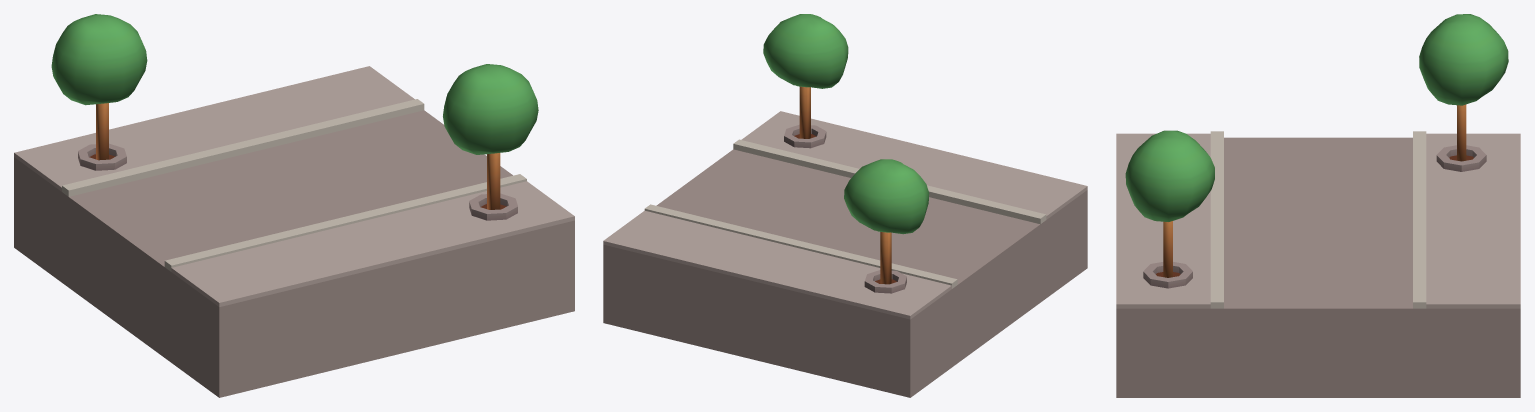
The model's file is Road_Regular.fbx.
3 renders of one model, left to right at view 1: azimuth 30°, elevation 25°; view 2: azimuth 150°, elevation 25°; view 3: azimuth 270°, elevation 25°, orthographic. The views are drawn at different scales.
Visible parts, largest first — view 1: Road_Regular; view 2: Road_Regular; view 3: Road_Regular.
Boxes of the visible parts, <box> form: Road_Regular: <box>14,14,574,397</box>; Road_Regular: <box>603,14,1087,397</box>; Road_Regular: <box>1116,14,1520,397</box>.
Size of the model in its own units: 400 by 254 by 400.
